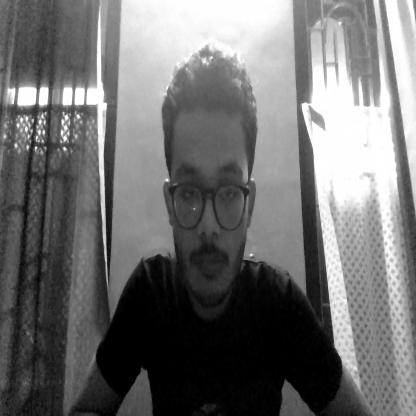Normal: (157, 46, 256, 304)
